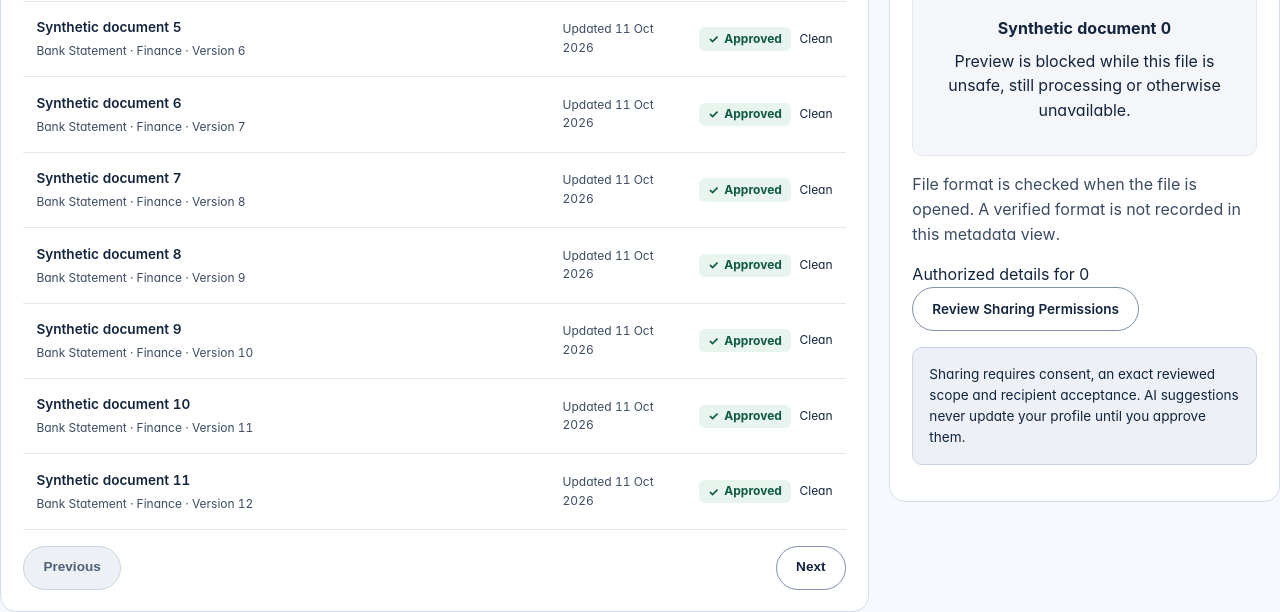
Test: real wallet metadata controls and selected detail slots › bounds rows and paginates the full authorized list
(page scrolled)
Click the button "Next": (811, 568) [776,546,846,590]
(page scrolled)
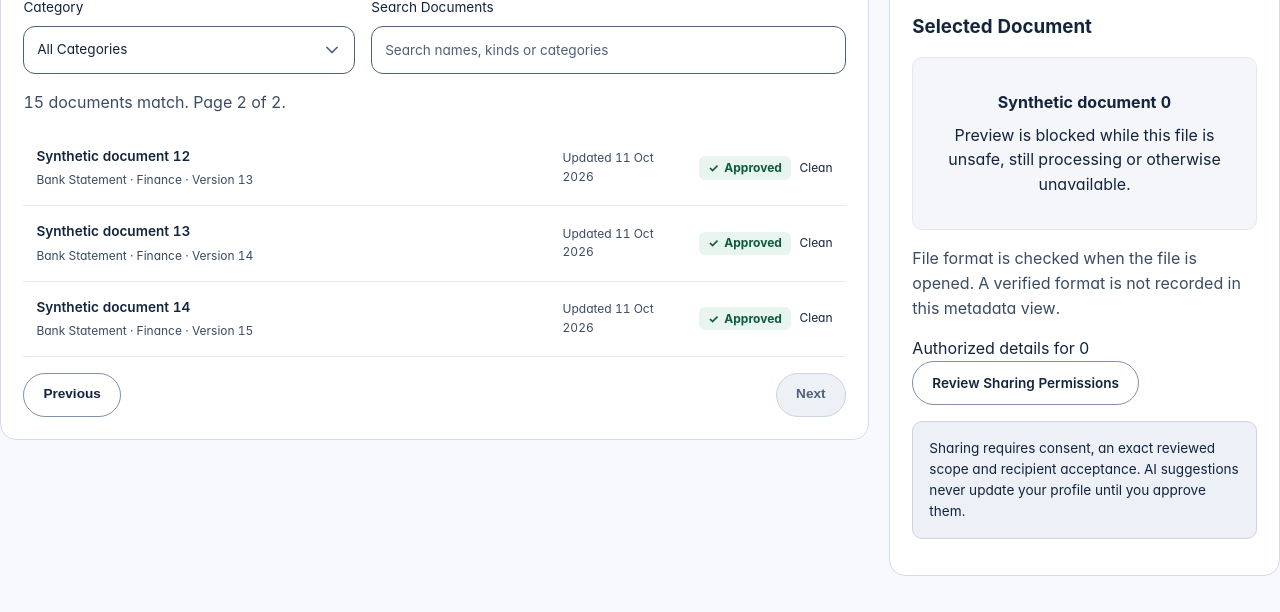
Check: the number of list items is 3, box [23,131,846,206]; [23,206,846,282]; [23,282,846,357]
Check: the text "15 documents match. Page 2 of 2." is shown, box [23,92,286,112]
